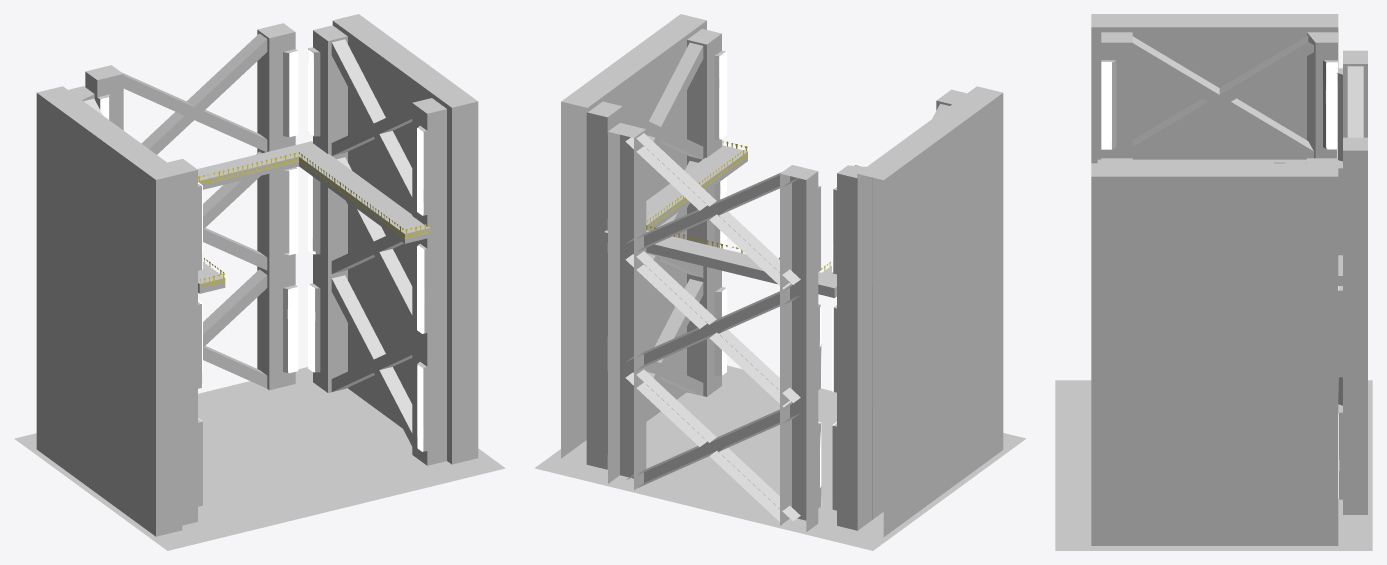
Rendered from scafolding0.fbx.
The picture shows the model from 3 angles, left to right: view 1: azimuth 30°, elevation 25°; view 2: azimuth 150°, elevation 25°; view 3: azimuth 270°, elevation 25°; orthographic projection. The views are drawn at different scales.
Visible parts, largest first — view 1: Cube.002, Cube.001; view 2: Cube.002, Cube.001; view 3: Cube.002.
Boxes of the visible parts, bbox=[...] form: Cube.002: bbox=[14, 14, 505, 550]; Cube.001: bbox=[198, 152, 430, 287]; Cube.002: bbox=[535, 14, 1026, 550]; Cube.001: bbox=[646, 141, 830, 270]; Cube.002: bbox=[1055, 14, 1372, 550].
Bounding box in the file's own units: 4765 × 4829 × 3743.
